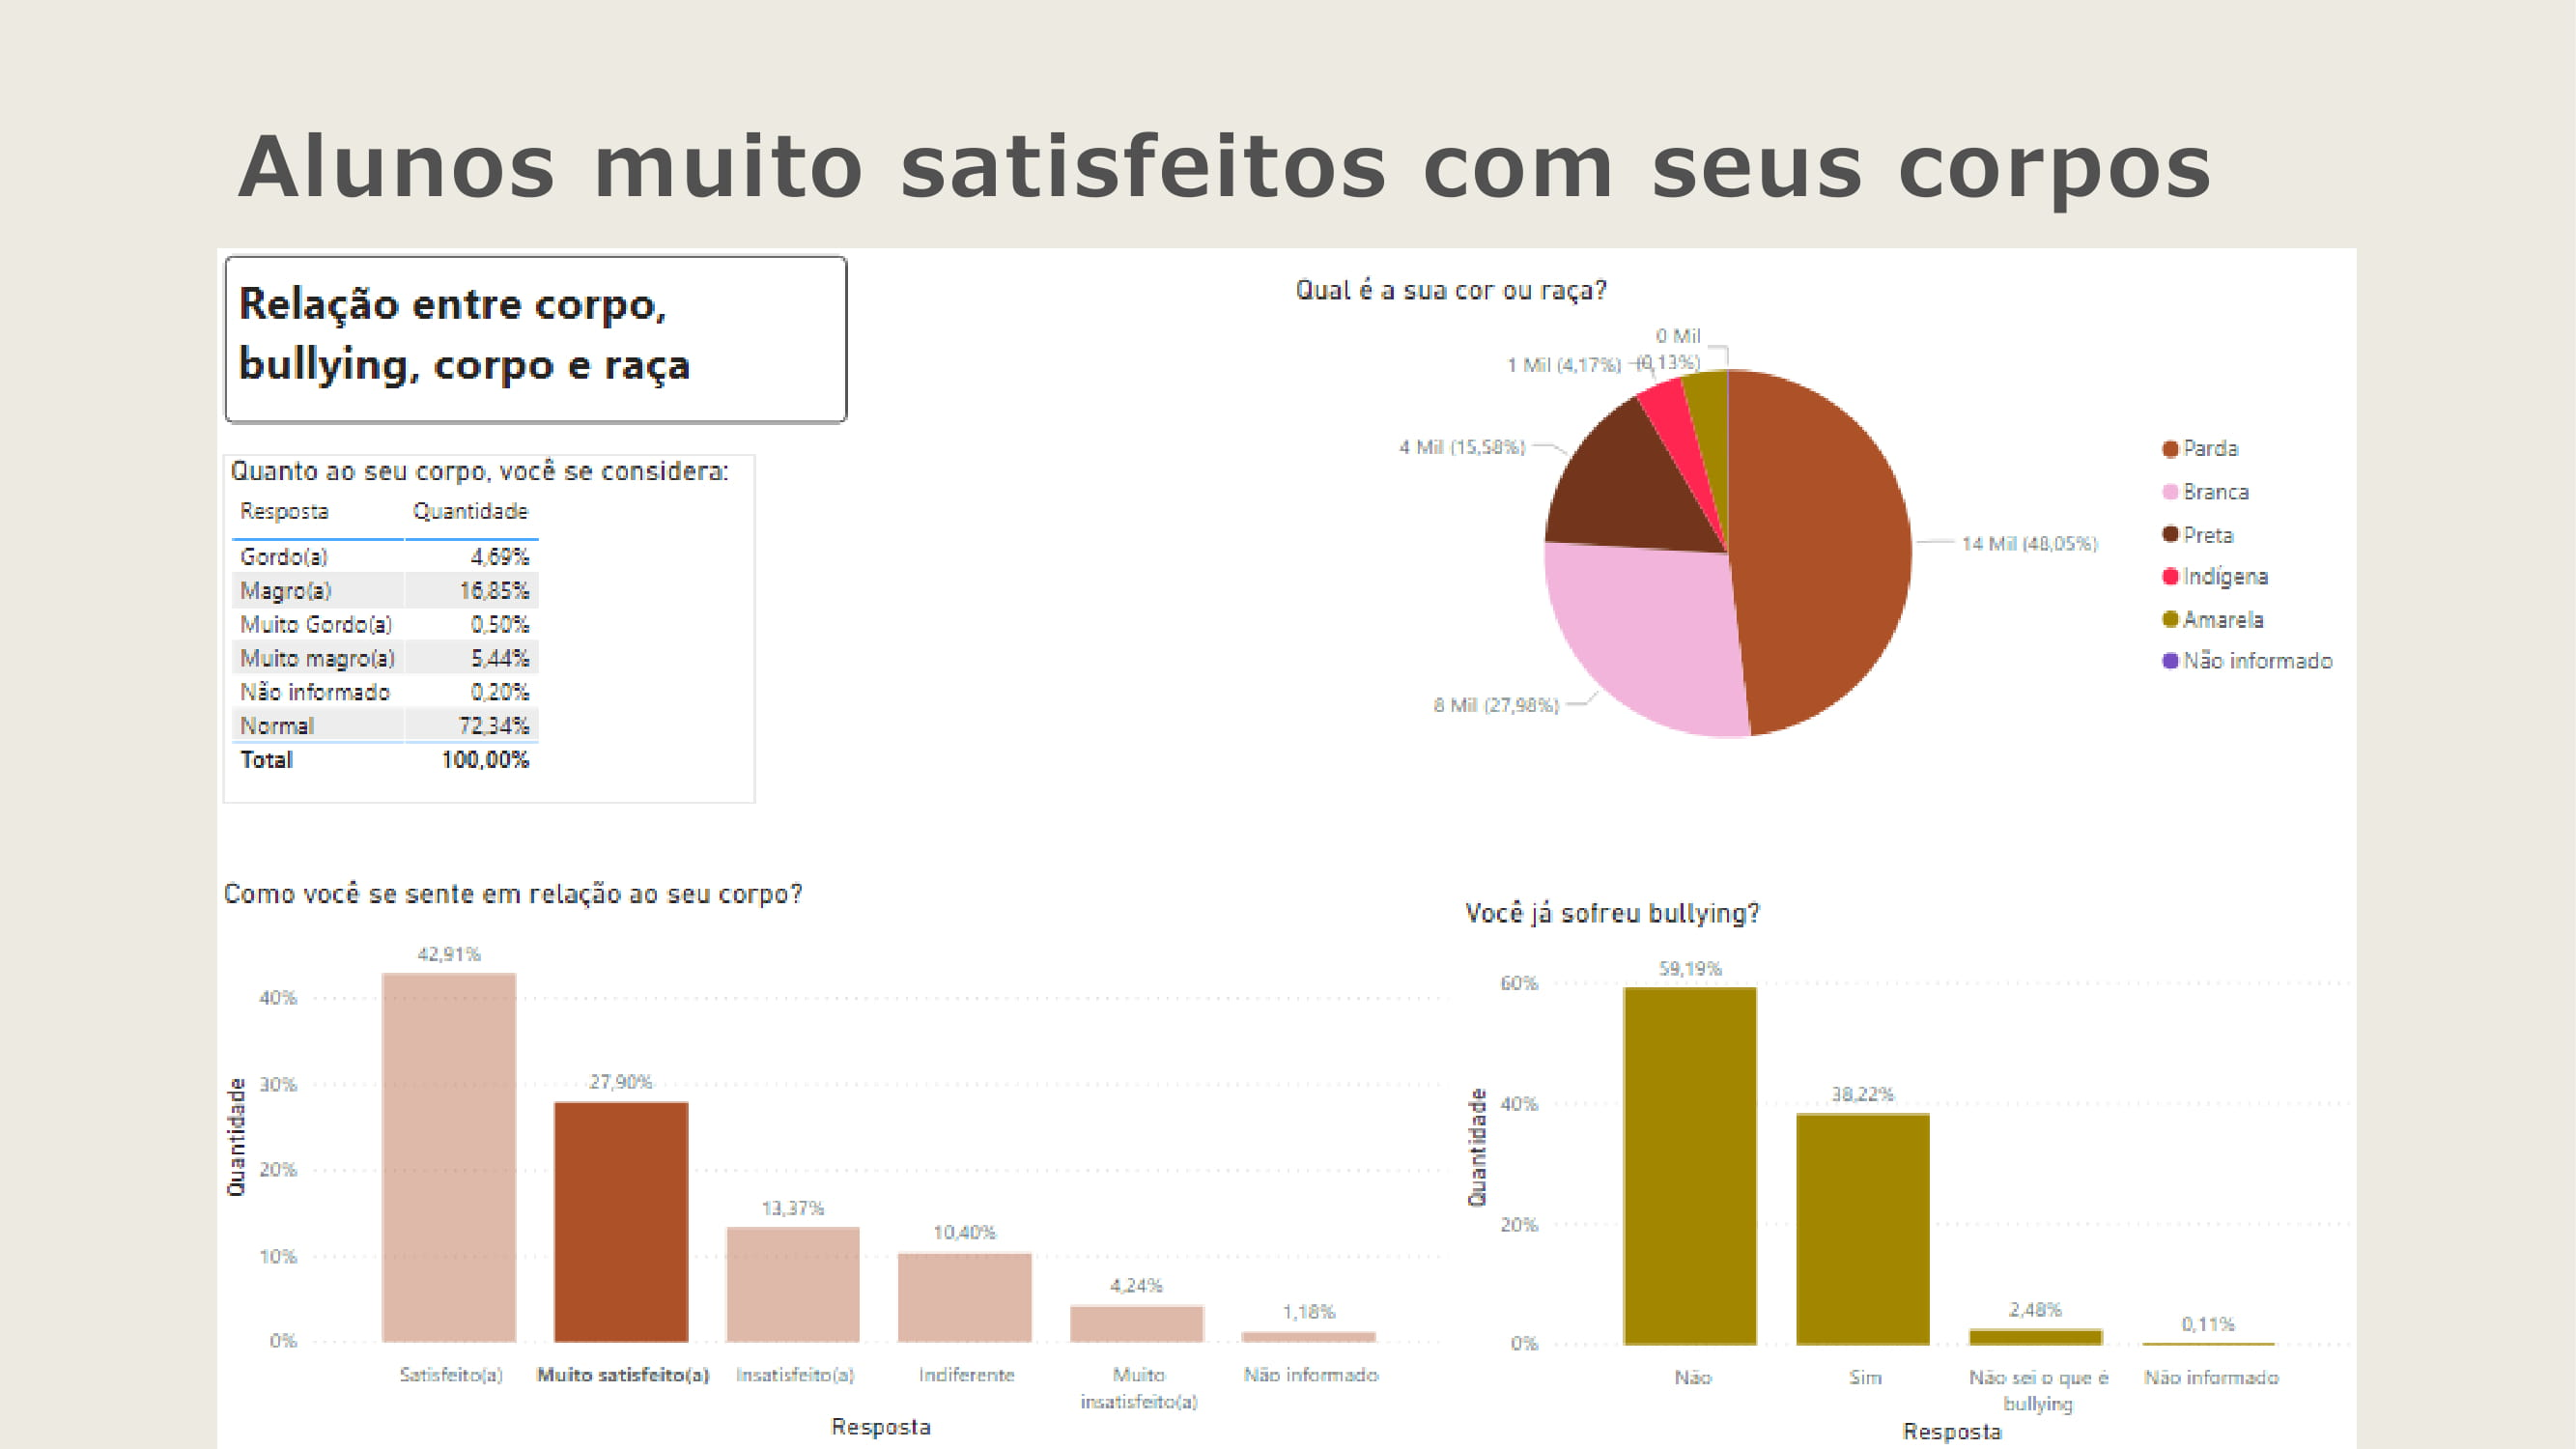

This screenshot's page, from the dashboard's own definition file:
{"tool":"powerbi","page":{"name":"Corpo e bullying","canvas":[1280,720],"ordinal":2},"visuals":[{"type":"clusteredColumnChart","title":"Você já sofreu bullying?","fields":{"Category":["P_Você já sofreu bullying?.Resposta"],"Y":["Sum(Respotas_Questionario.cont)"]},"box":[741.1,387.9,538.9,332.1],"z":0},{"type":"clusteredColumnChart","title":"Como você se sente em relação ao seu corpo?","fields":{"Category":["P_Como se sente em relação ao seu corpo?.Resposta"],"Y":["Sum(Respotas_Questionario.cont)"]},"box":[0,377.3,742.3,342.1],"z":1000},{"type":"tableEx","title":"Quanto ao seu corpo, você se considera:","fields":{"Values":["P_Quanto ao seu corpo, você se considera:.Resposta","Sum(Respotas_Questionario.cont)"]},"box":[4.6,123.7,319.2,209.3],"z":2000},{"type":"textbox","box":[5.8,5.8,372.3,99.6],"z":3000},{"type":"pieChart","title":"Qual é a sua cor ou raça?","fields":{"Y":["Sum(Respotas_Questionario.cont)"],"Category":["P_Qual é a sua cor ou raça?.Resposta"]},"box":[640.6,15.9,639.2,317.4],"z":4000}]}

Visuals, with their boxes in screenshot pixels (x1, y1, x2, y2), scaled from the page's 1280x720 canvas onto the 2576x1449 screenshot:
"Você já sofreu bullying?" clusteredColumnChart: (1491,781,2575,1448)
"Como você se sente em relação ao seu corpo?" clusteredColumnChart: (0,759,1494,1448)
"Quanto ao seu corpo, você se considera:" tableEx: (10,249,652,670)
textbox: (12,12,761,213)
"Qual é a sua cor ou raça?" pieChart: (1289,32,2575,670)
